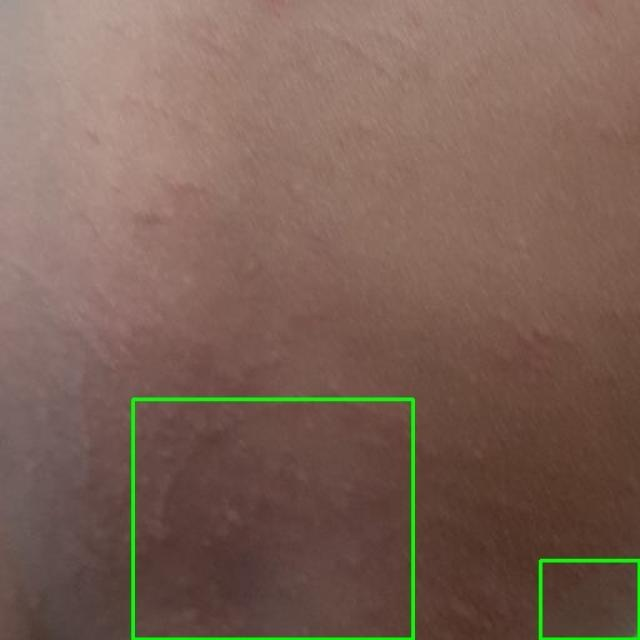Atopic Dermatitis: (132, 399, 412, 639), (540, 560, 639, 639)
